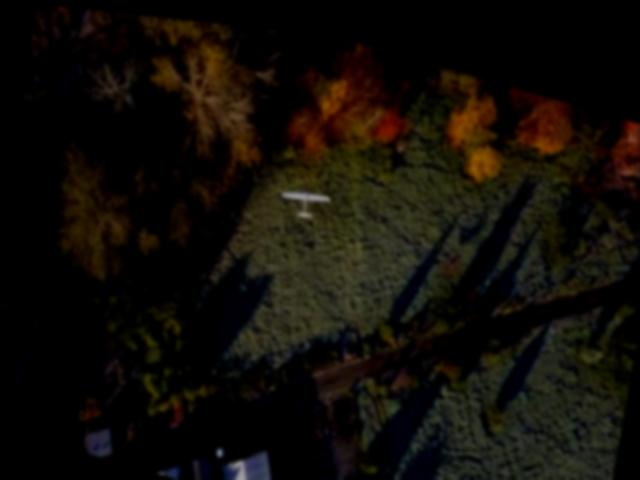uav: (272, 160, 338, 224)
